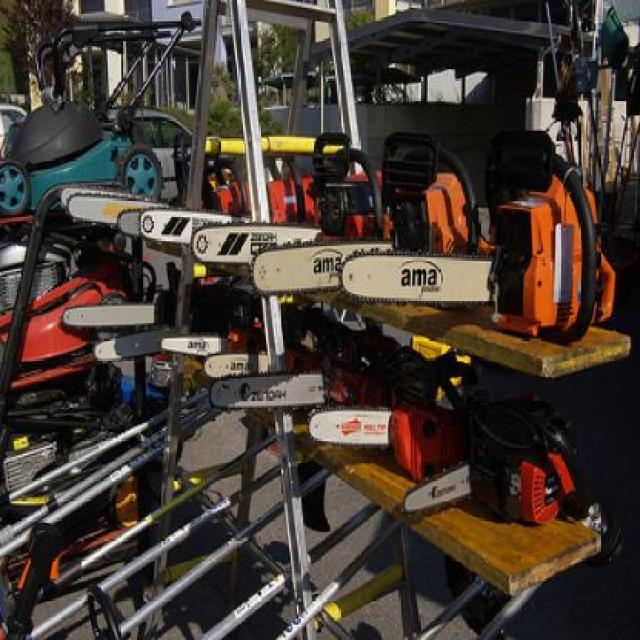Chainsaw: (340, 129, 620, 340), (250, 132, 488, 300), (400, 356, 594, 524), (194, 135, 395, 268), (138, 152, 310, 246), (209, 340, 400, 417), (310, 394, 462, 474), (203, 319, 342, 383), (61, 189, 170, 228), (91, 326, 180, 362), (58, 302, 156, 328)
